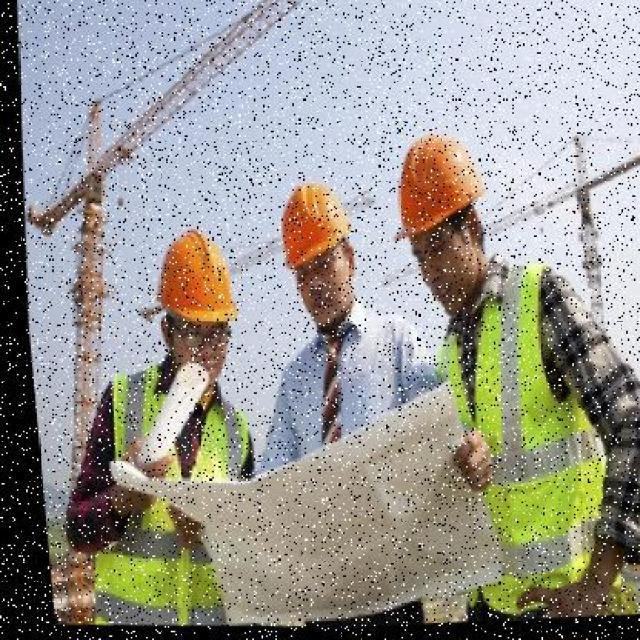helmet: (386, 129, 500, 242), (138, 220, 244, 338), (271, 179, 350, 277)
vest: (419, 292, 595, 624), (80, 369, 240, 629)
